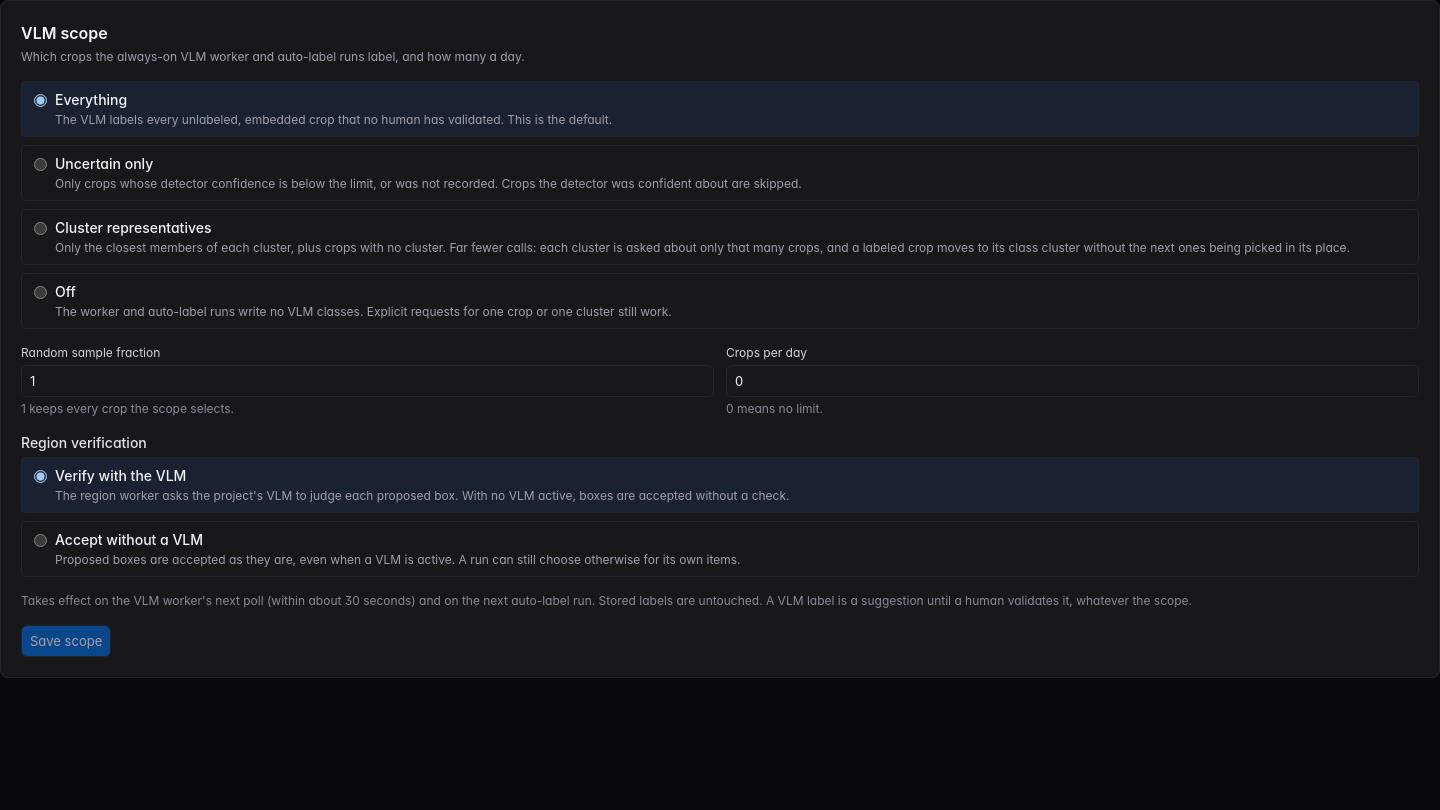
Test: VlmScopePanel › checks the served region verification mode and saves a switch to none
Expected: the radio button with test id "region-verify-vlm" is checked, [34, 470, 47, 483]
Note: The region verification mode applies whatever the VLM scope is.
Click the radio button with test id "vlm-scope-off" at (40,292), box [34, 286, 47, 299]
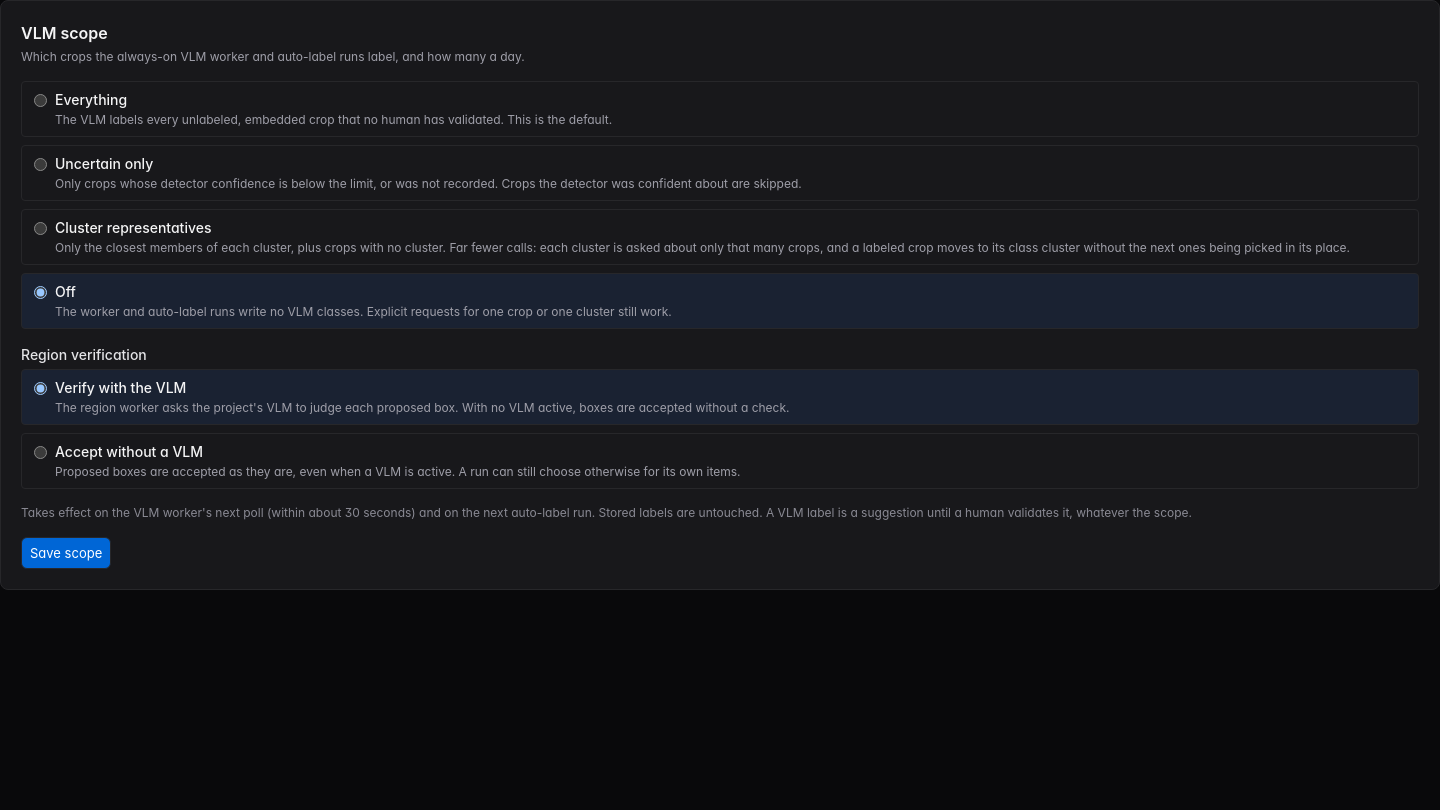
Click the radio button with test id "region-verify-none" at (40,452), box [34, 446, 47, 459]
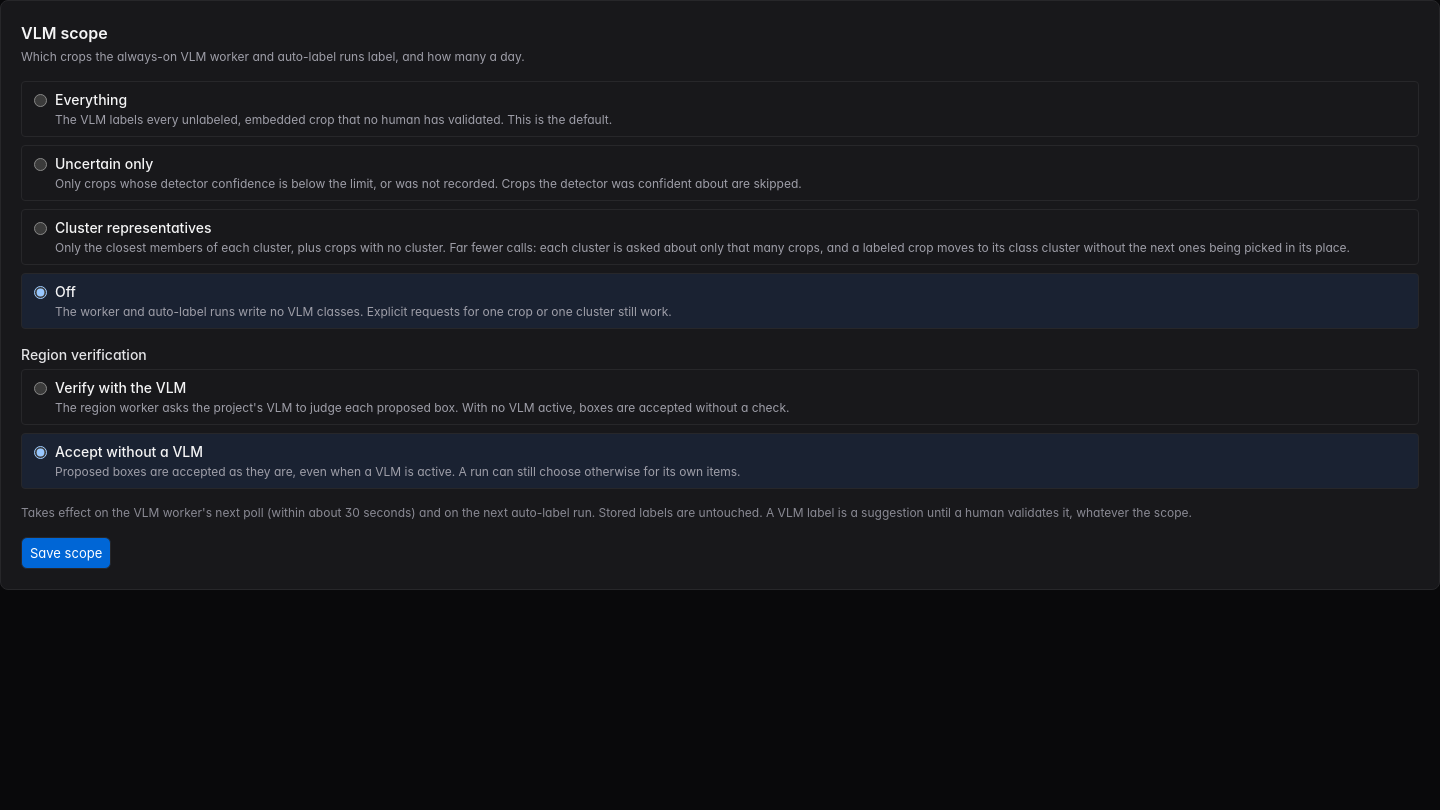
Click the button with test id "vlm-scope-save" at (66,553), box [21, 537, 111, 569]
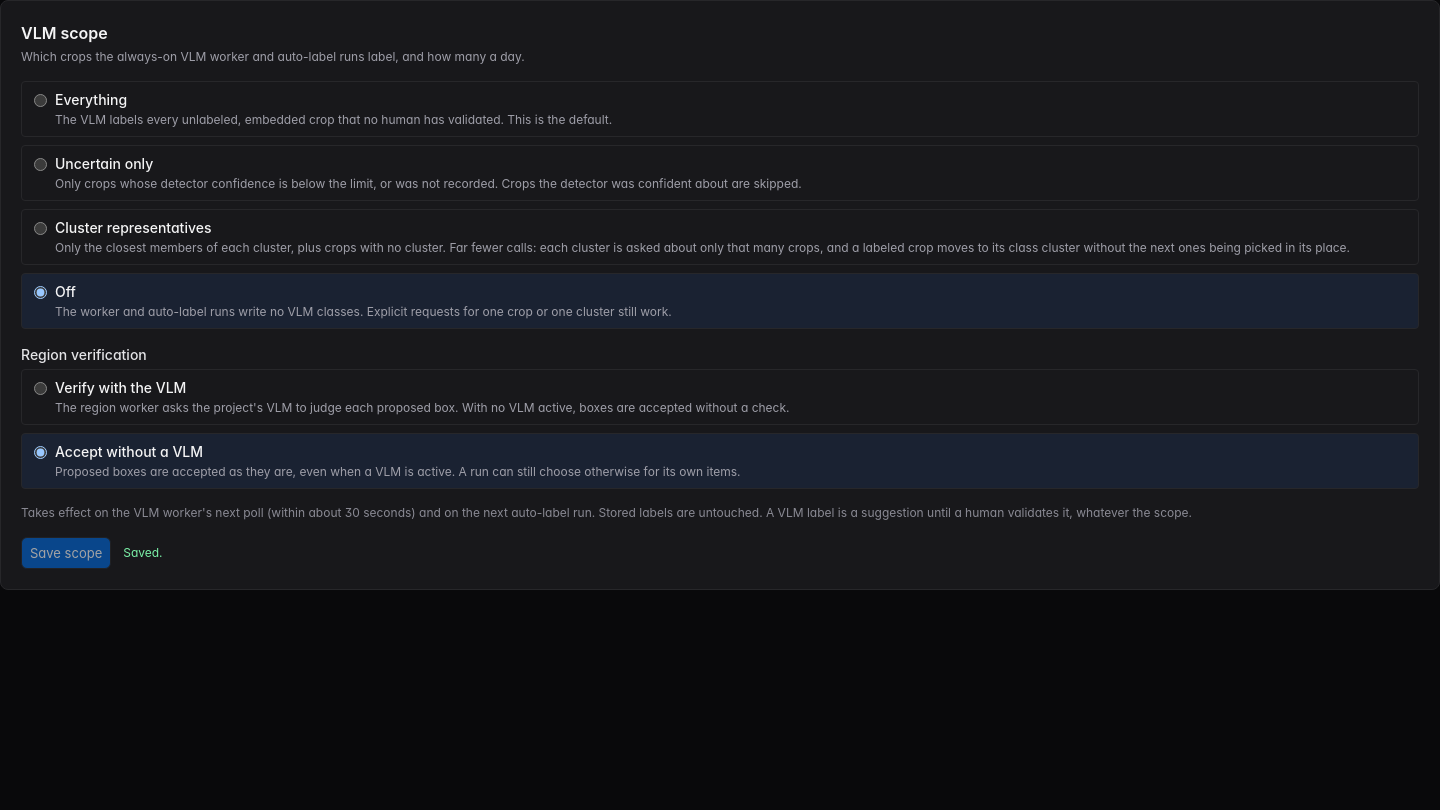
Result: the text "Saved." is shown at [123, 545, 163, 561]
